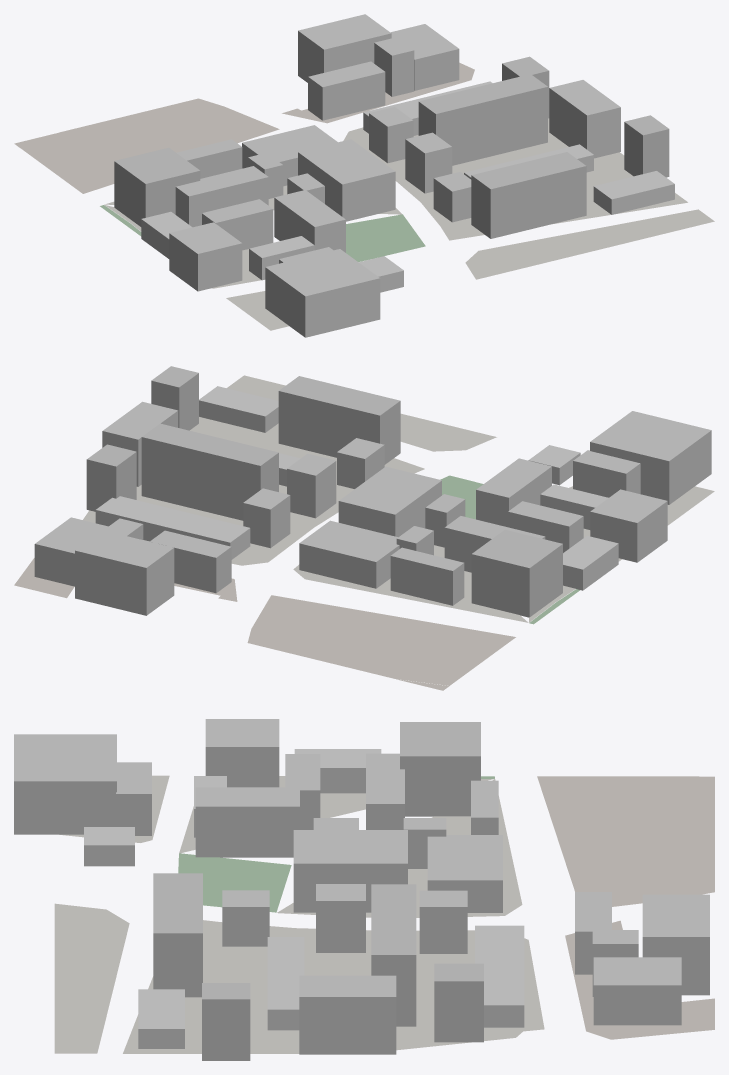
Rendered from 104_89_mid.glb.
The picture shows the model from 3 angles, top to bottom: view 1: azimuth 30°, elevation 25°; view 2: azimuth 150°, elevation 25°; view 3: azimuth 270°, elevation 25°; orthographic projection. The views are drawn at different scales.
Bounding box in the file's own units: 529 × 61.12 × 531.
